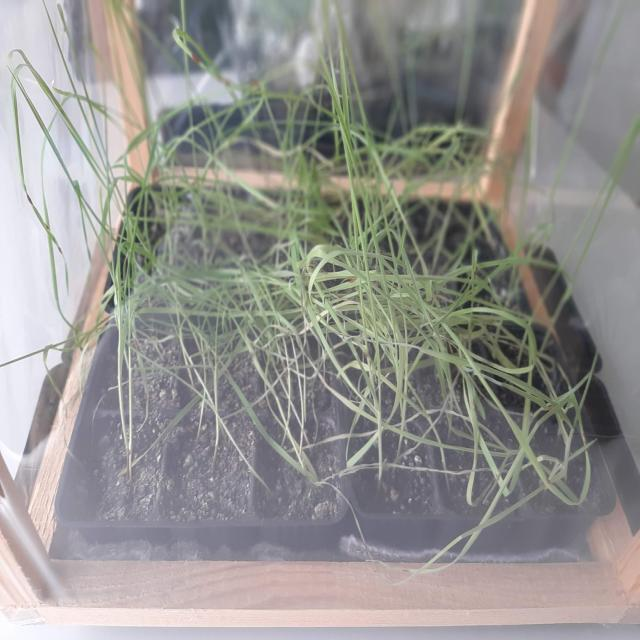wheat-stemrust: (192, 54, 199, 63), (349, 279, 357, 284), (281, 360, 284, 369)
